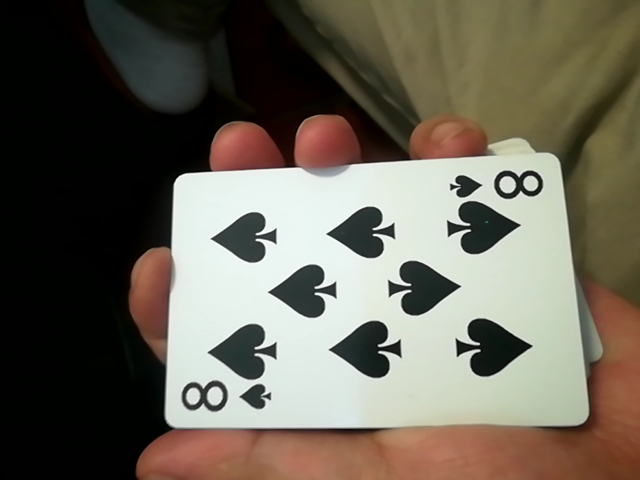ht 8: (145, 142, 575, 447)
